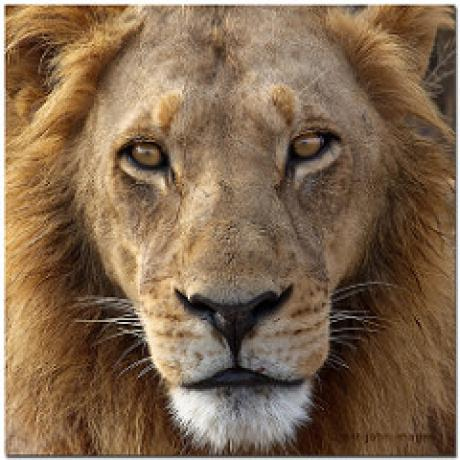Lion: (4, 4, 456, 460)
